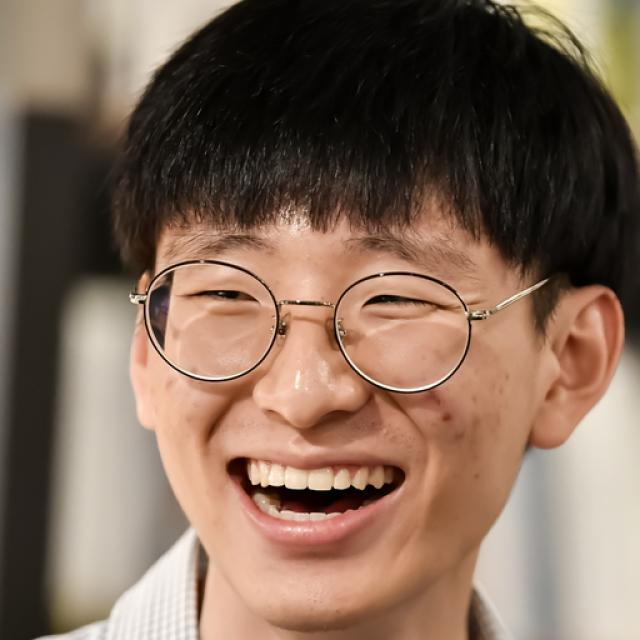Acne: (372, 422, 393, 450)
Spots: (408, 371, 450, 411), (434, 410, 465, 430)
